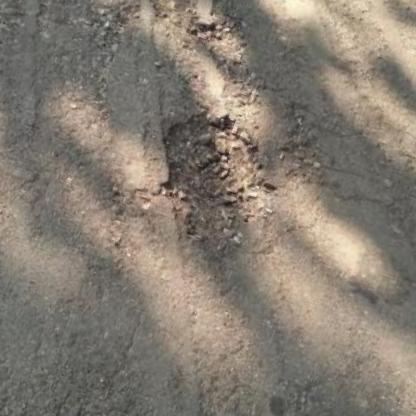pothole: (128, 100, 294, 259)
